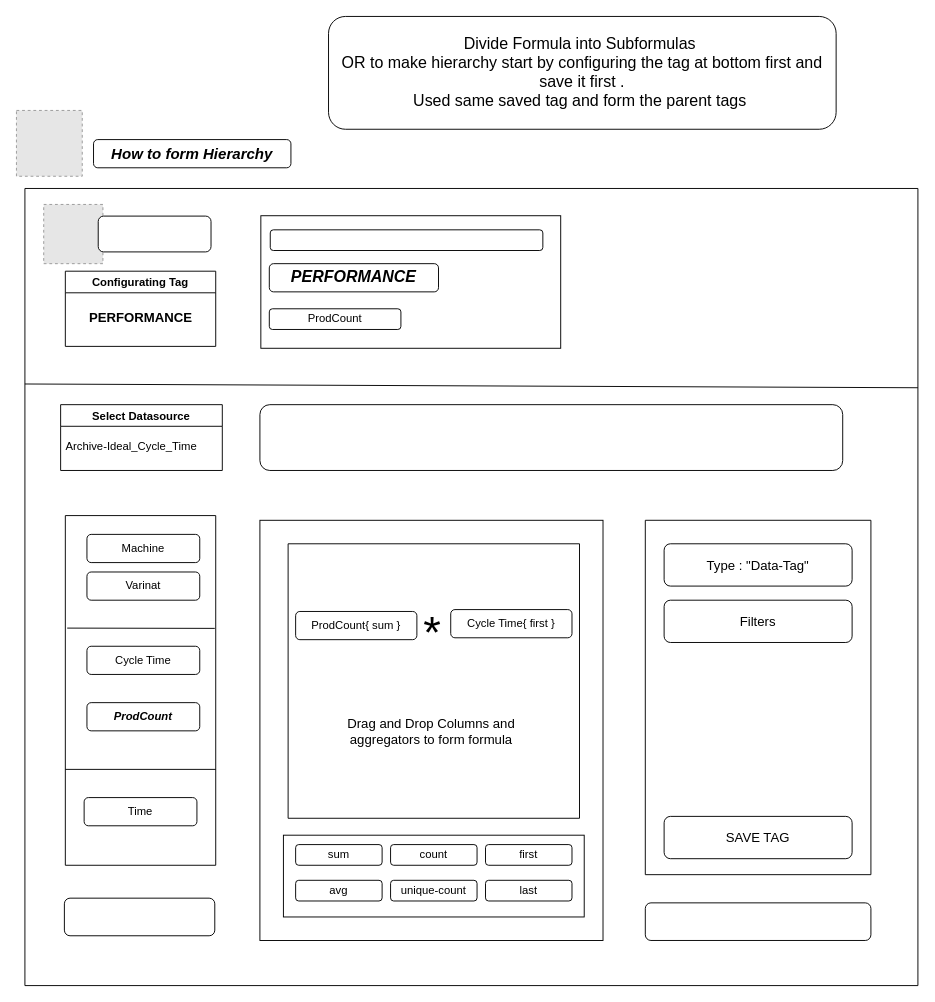
Image size: 935x1002. Some labels were removed from this diagram. Grey dashed boxes stand in for pictures. The centre of each missing label's shape, as x and y in pixels:
Add Result Tag: [154,233]
PERFORMANCE = PodCount { sum } * Cycle Time { First }: [551,437]
Result Collection Object - Tags: [406,240]
Tag - Configurator: [757,921]
Tags: [139,916]
